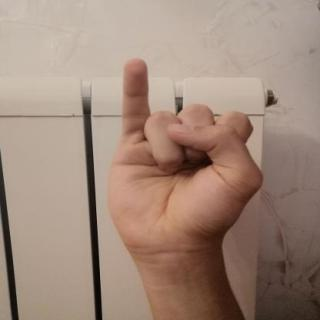MEEM: (85, 47, 282, 268)
